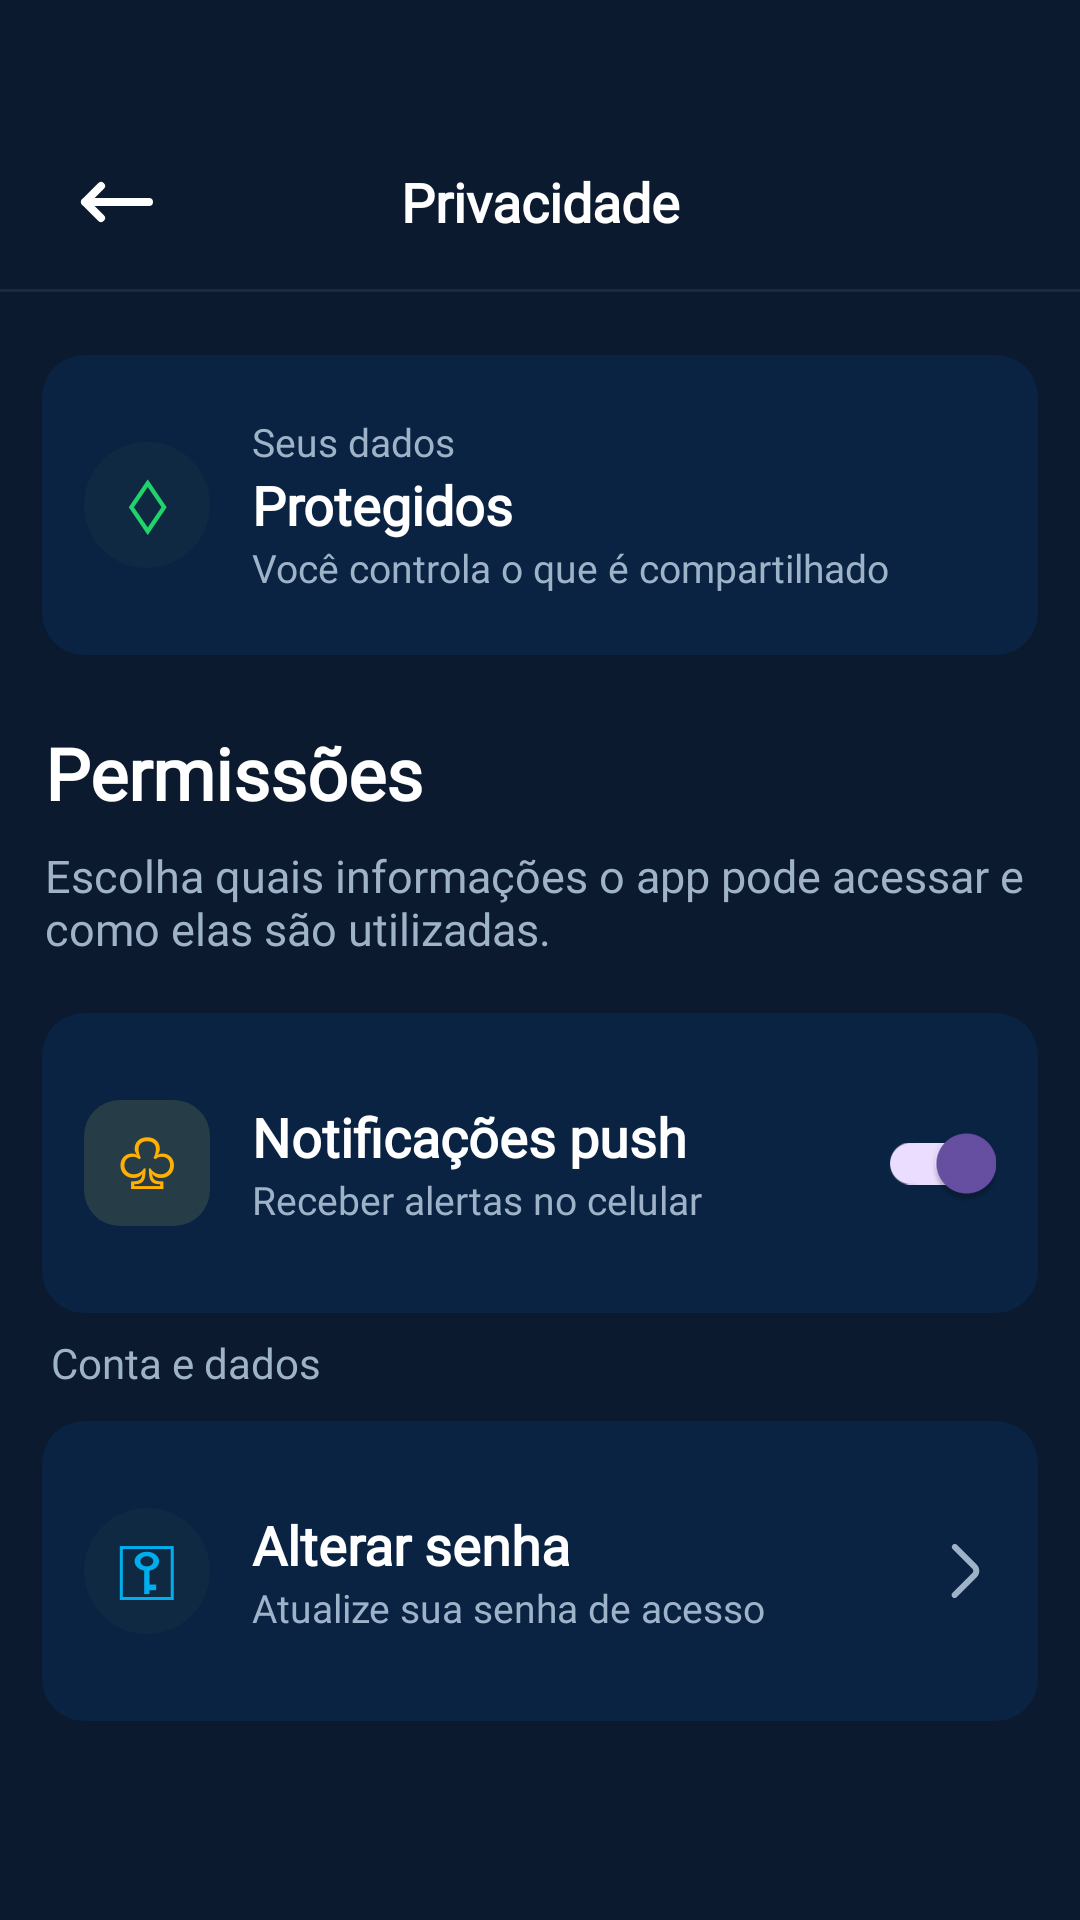

Screen size 1080 x 1920. Icon name, then its center in pixels as [x,y]:
arrownext: [965,1571]
Voltar: [116,202]
